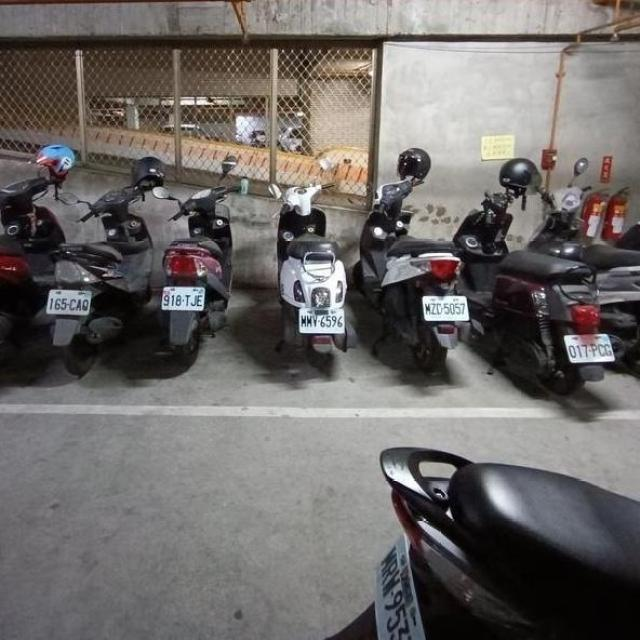W: (560, 324, 615, 369), (416, 288, 470, 326), (44, 282, 94, 319), (159, 280, 207, 314), (296, 304, 346, 336)
